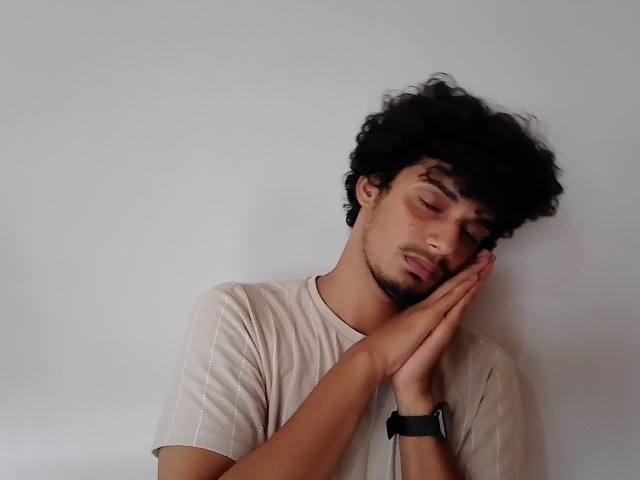sleep: (378, 239, 498, 370)
